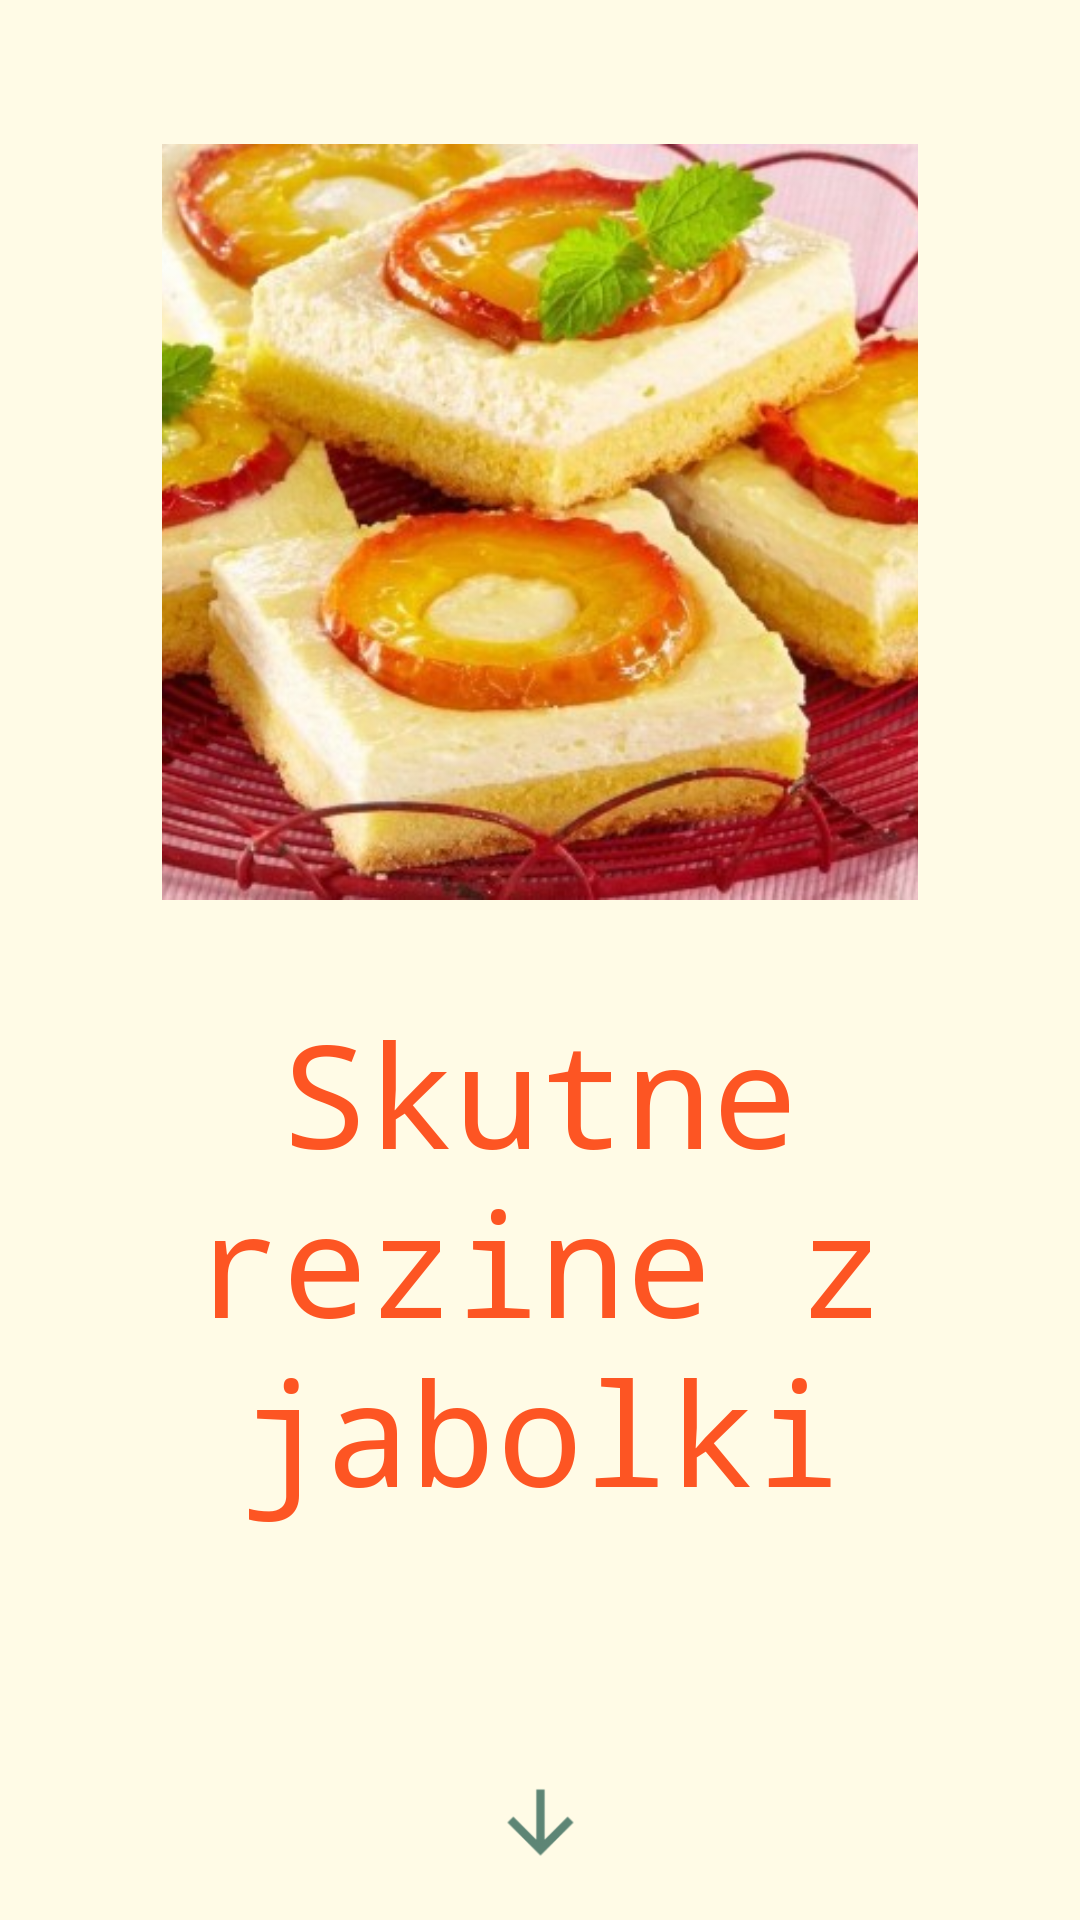

Locate icon controls on the screen. Image size 1080×1920, boxes as (x1, y1, x2, y2).
arrow down: (507, 1789, 574, 1856)
